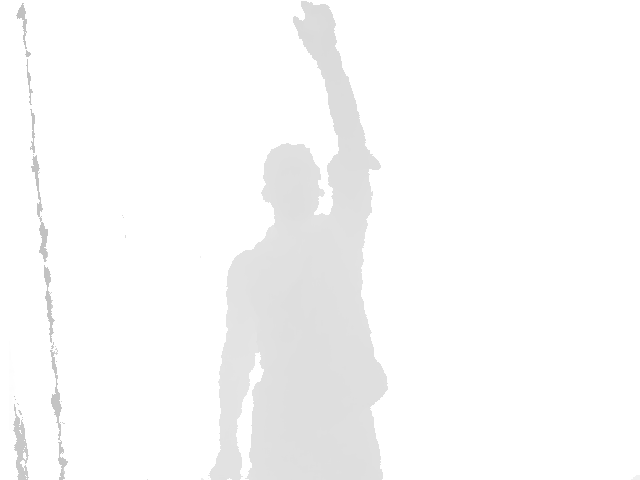hand: (292, 1, 338, 60)
hand_down: (208, 448, 243, 480)
head: (261, 143, 324, 212)
person: (207, 1, 389, 480)
